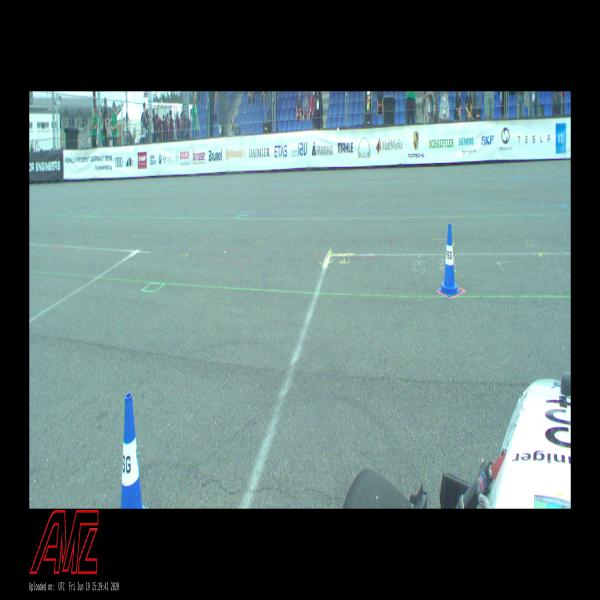blue_cone: (121, 393, 148, 508), (438, 224, 460, 297)
